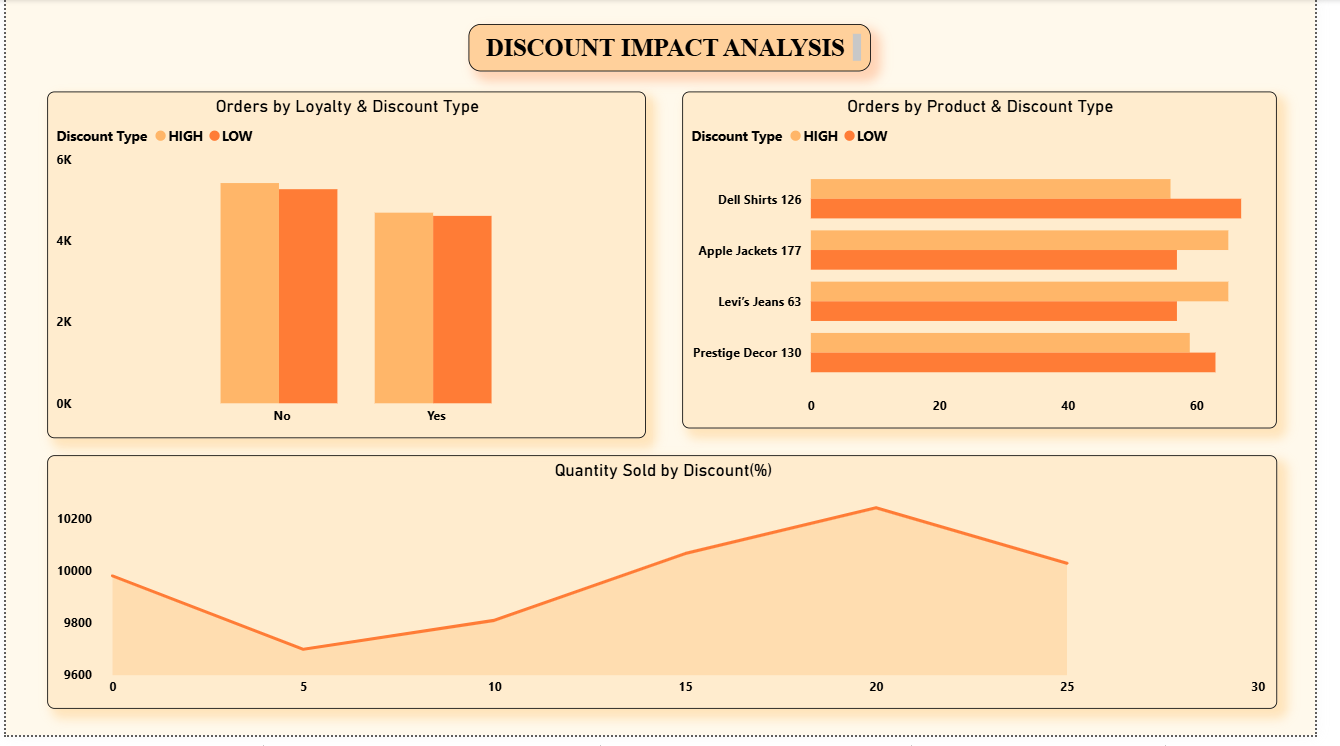

What the dashboard file says about the page in this screenshot:
{"tool":"powerbi","page":{"name":"DISCOUNT IMPACT ANALYSIS","canvas":[1280,720],"ordinal":3},"visuals":[{"type":"clusteredColumnChart","title":"Orders by Loyalty & Discount Type","fields":{"Y":["CountNonNull(Sales.OrderID)"],"Category":["Customers.LoyaltyMember"],"Series":["Sales.Discount Type"]},"box":[39.8,90.6,585.9,338.9],"z":0},{"type":"clusteredBarChart","title":"Orders by Product & Discount Type","fields":{"Category":["Products.ProductName"],"Series":["Sales.Discount Type"],"Y":["CountNonNull(Sales.OrderID)"]},"box":[661.4,90.6,581.8,329.3],"z":1000},{"type":"areaChart","title":"Quantity Sold by Discount(%)","fields":{"Category":["Sales.Discount (%)"],"Y":["Sum(Sales.Quantity)"]},"box":[39.8,446,1203.4,248.4],"z":2000},{"type":"textbox","box":[452.8,24.7,393.8,46.7],"z":3000}]}

Visuals, with their boxes in screenshot pixels (x1, y1, x2, y2), scaled from the page's 1280x720 canvas onto the 1340x746 screenshot:
"Orders by Loyalty & Discount Type" clusteredColumnChart: select_region(42, 94, 655, 445)
"Orders by Product & Discount Type" clusteredBarChart: select_region(692, 94, 1301, 435)
"Quantity Sold by Discount(%)" areaChart: select_region(42, 462, 1301, 719)
textbox: select_region(474, 26, 886, 74)
